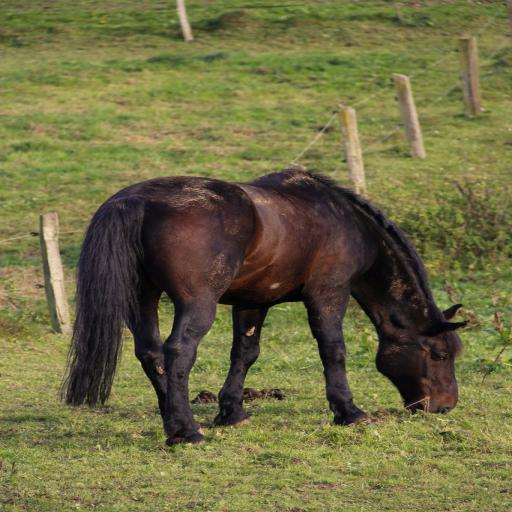horse: (53, 169, 471, 445)
